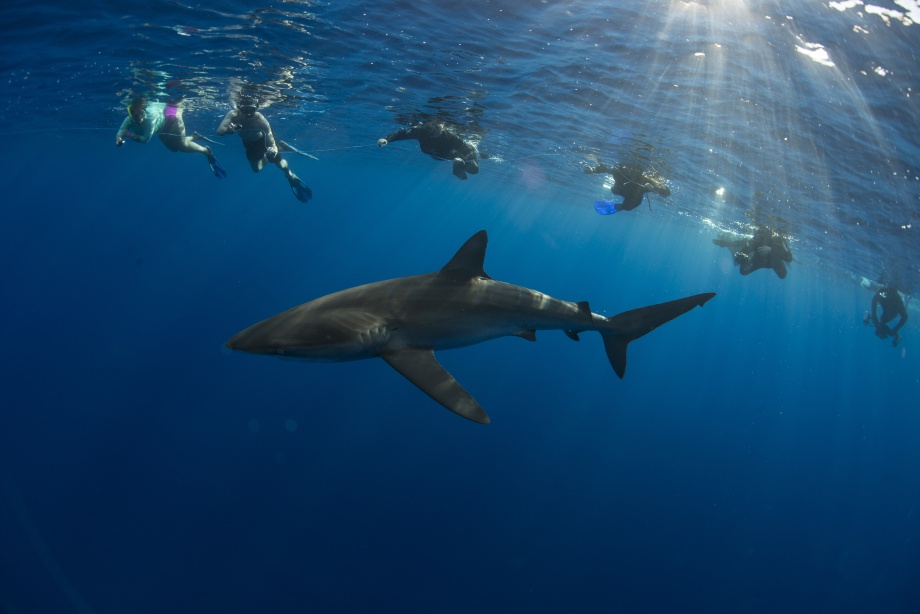Sedoso: (219, 224, 723, 437)
